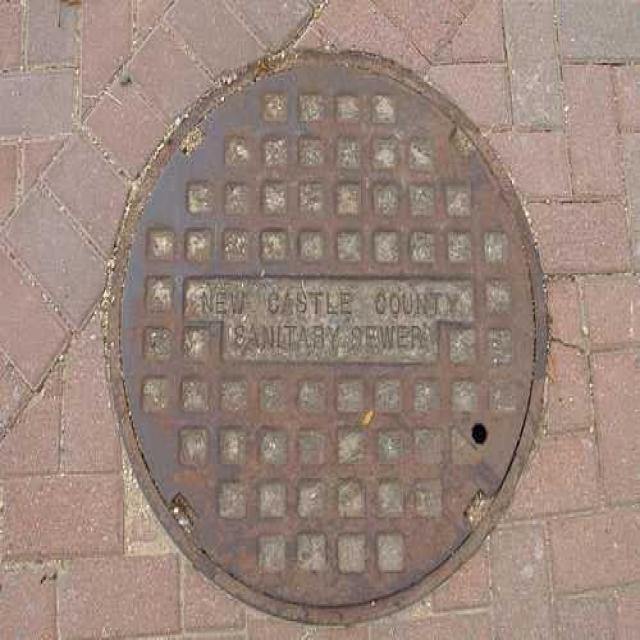manhole: (106, 53, 545, 623)
